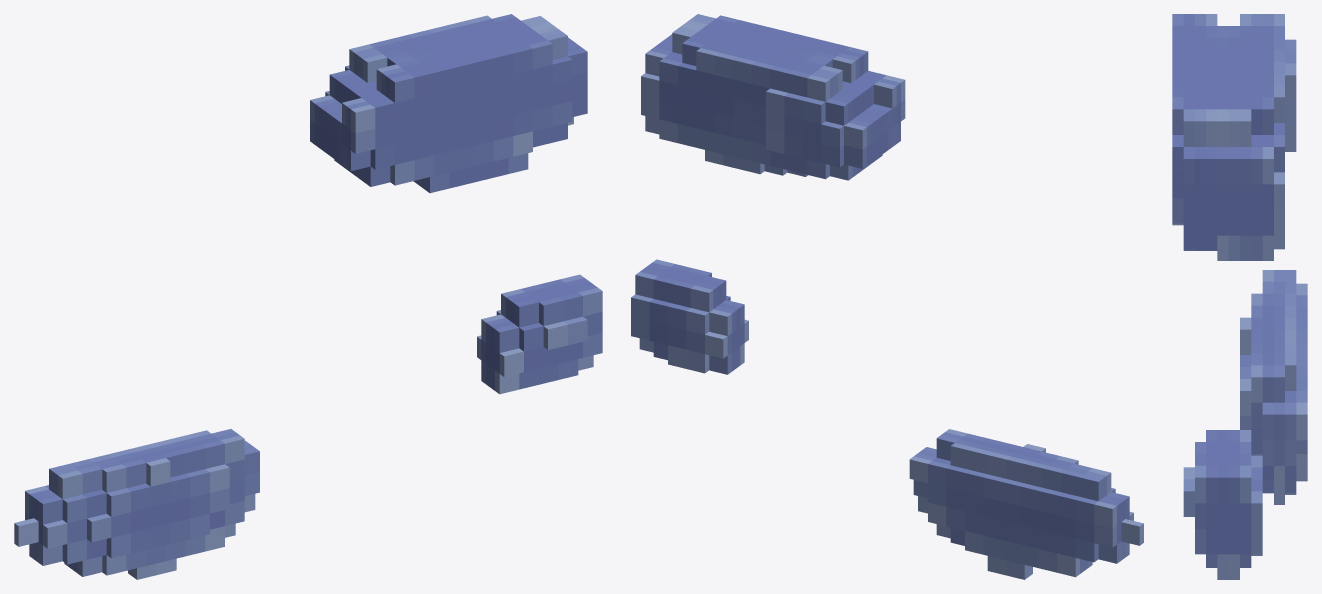
Rendered from unet.glb.
3 views of the same model, side by side, from view 1: azimuth 30°, elevation 25°; view 2: azimuth 150°, elevation 25°; view 3: azimuth 270°, elevation 25° (orthographic). The views are drawn at different scales.
Parts seen in each view (by area): view 1: world; view 2: world; view 3: world.
Boxes of the visible parts, x1=… form: world: x1=14, y1=14, x2=602, y2=579; world: x1=631, y1=14, x2=1143, y2=579; world: x1=1172, y1=14, x2=1307, y2=579.
Bounding box in the file's own units: 4.38 × 3.59 × 0.75.
